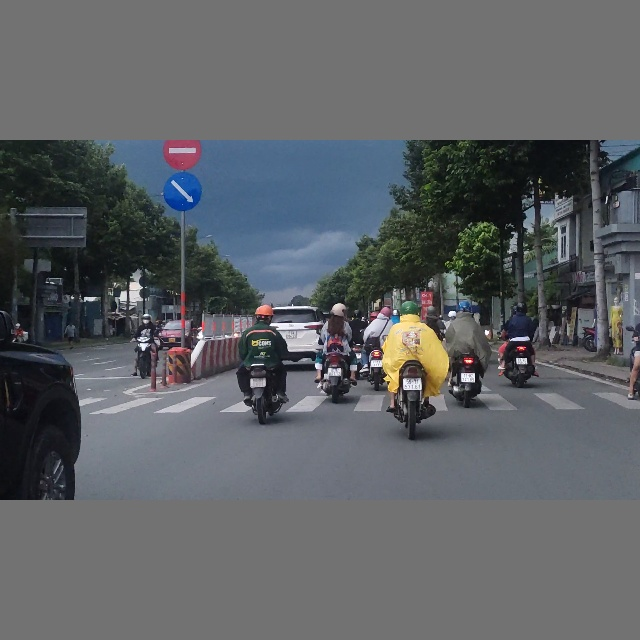P.102: (163, 140, 202, 171)
R.302a: (163, 171, 202, 212)
